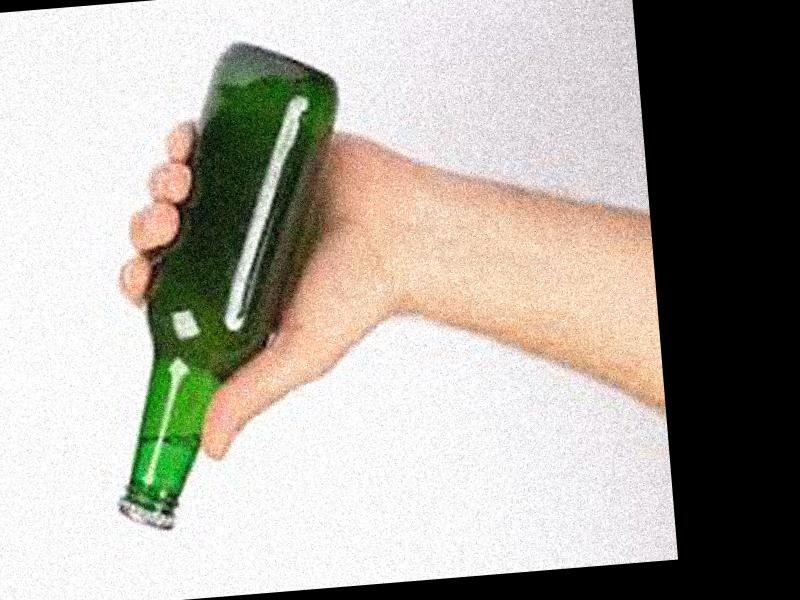Beer: (84, 40, 372, 536)
